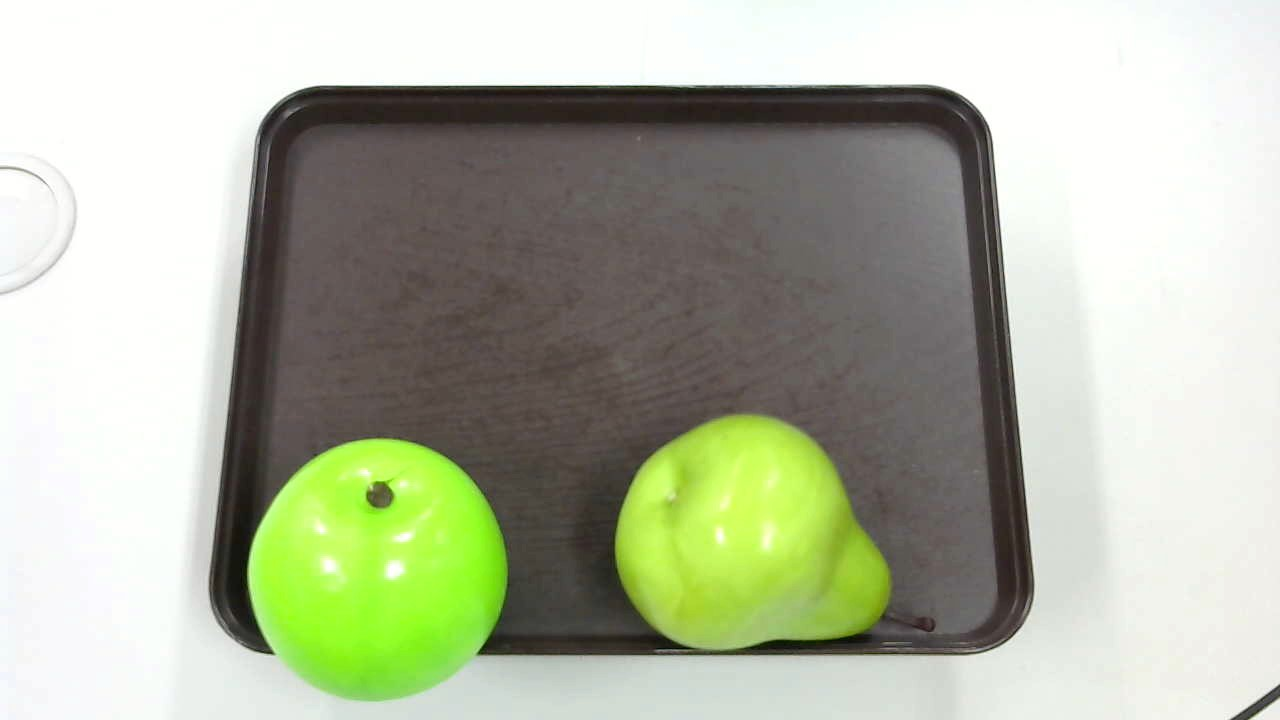green apple: (238, 434, 509, 697)
green pear: (607, 409, 938, 662)
